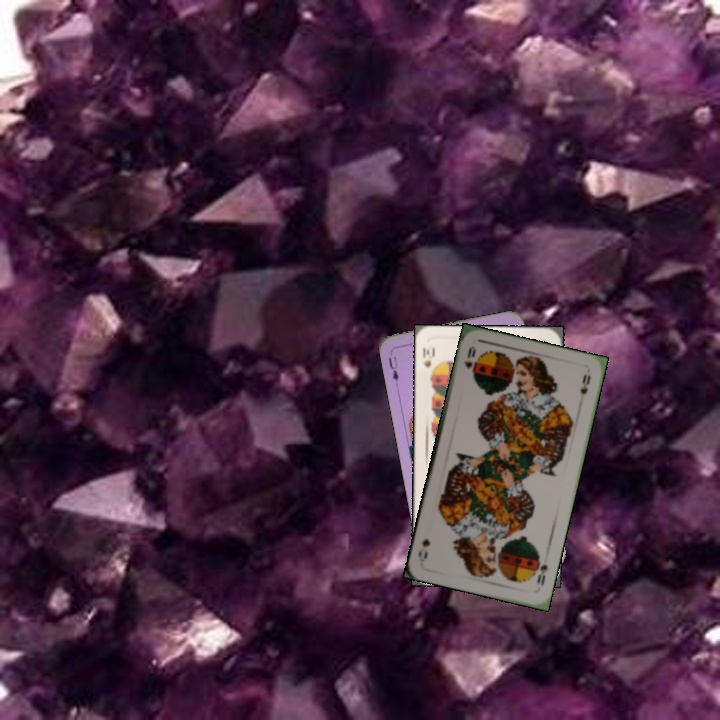EU: (384, 352, 401, 384)
S10: (419, 341, 437, 380)
SO: (459, 342, 478, 372), (533, 560, 550, 588)
